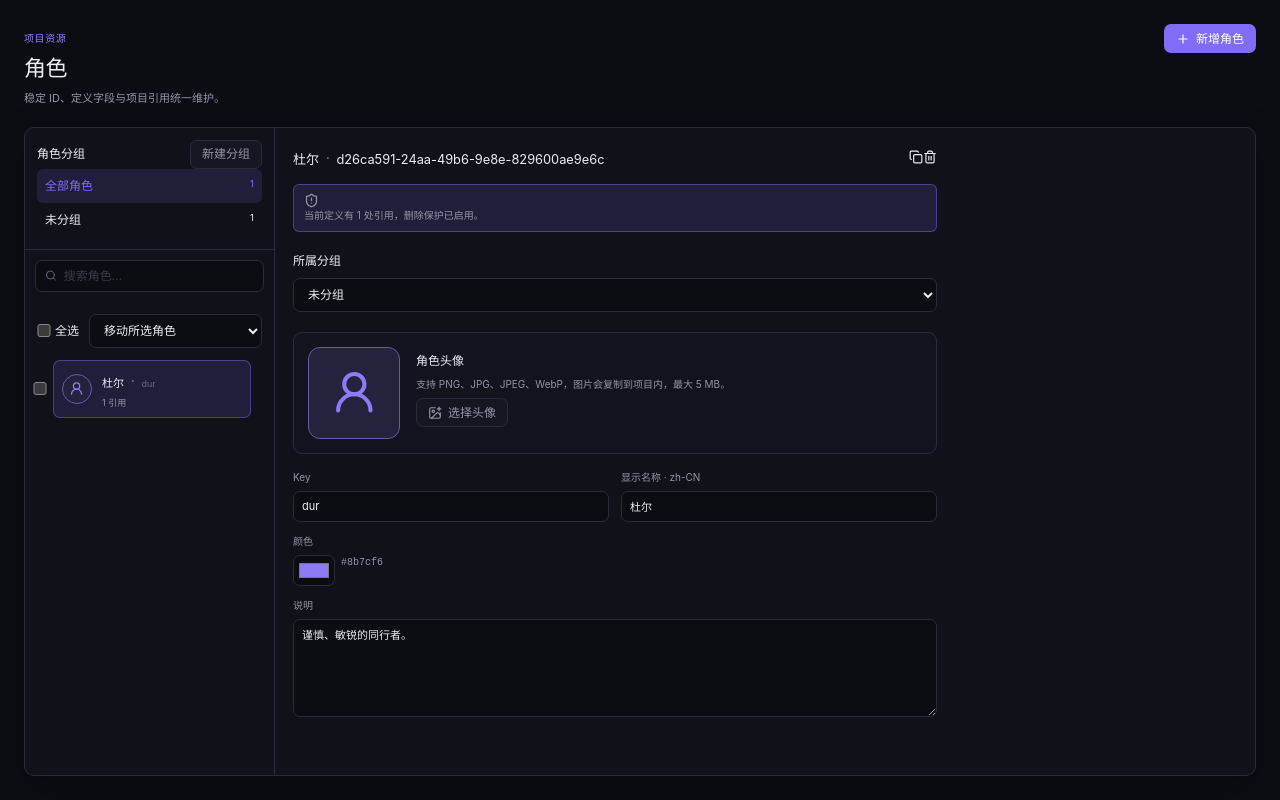
Test: imports a selected character avatar into the project
This screenshot has width=1280, height=800.
Click the button "选择头像". click: (462, 412)
box: [416,398,508,427]
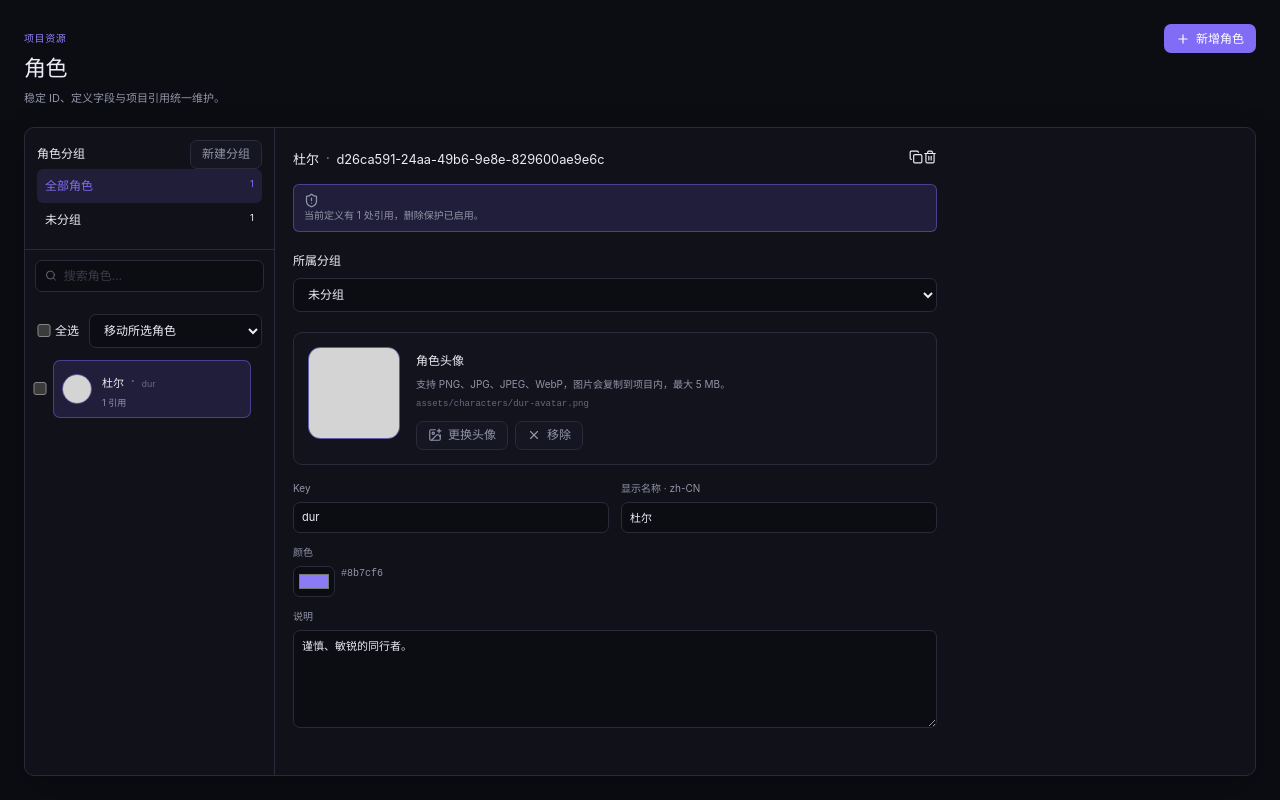
expect the text "assets/characters/dur-avatar.png" is shown: met, box [416,399,589,409]
